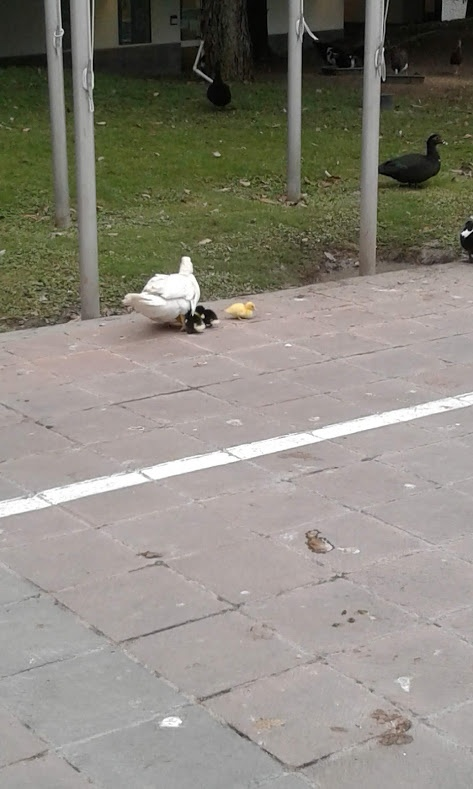pato: (384, 130, 445, 189)
